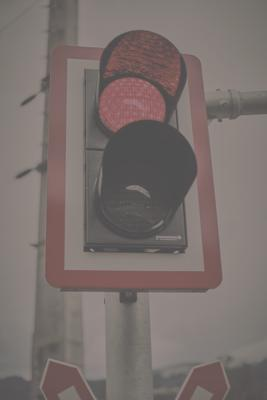International Road Signal Light: (45, 45, 221, 290)
